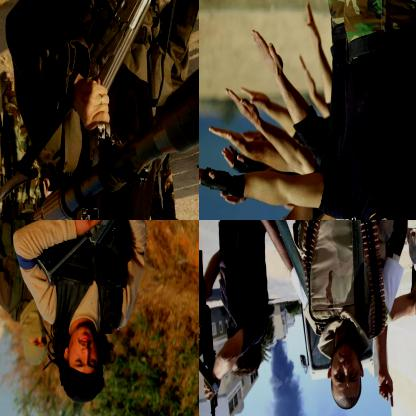rifle: (14, 11, 198, 219), (36, 220, 190, 288), (199, 247, 227, 415)
